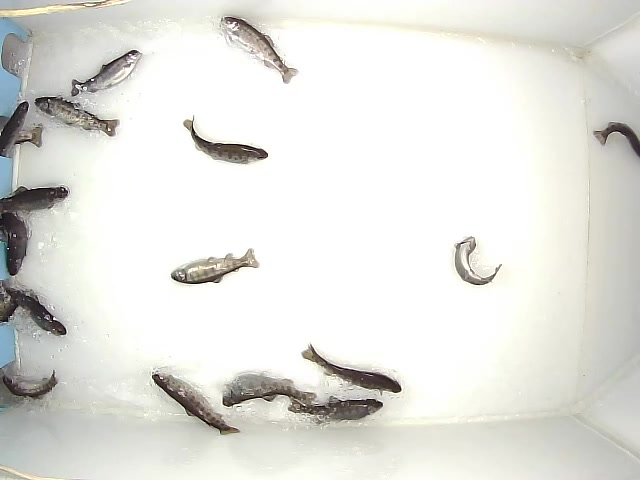fish: (149, 369, 240, 435), (301, 342, 403, 397), (221, 16, 299, 85), (183, 113, 269, 165), (1, 281, 67, 337), (34, 96, 121, 138), (69, 49, 143, 97), (222, 371, 318, 408), (169, 247, 261, 285), (287, 395, 384, 425), (453, 235, 504, 286), (1, 365, 58, 402), (1, 185, 71, 214), (592, 120, 640, 160), (1, 212, 29, 278), (1, 100, 29, 158)
